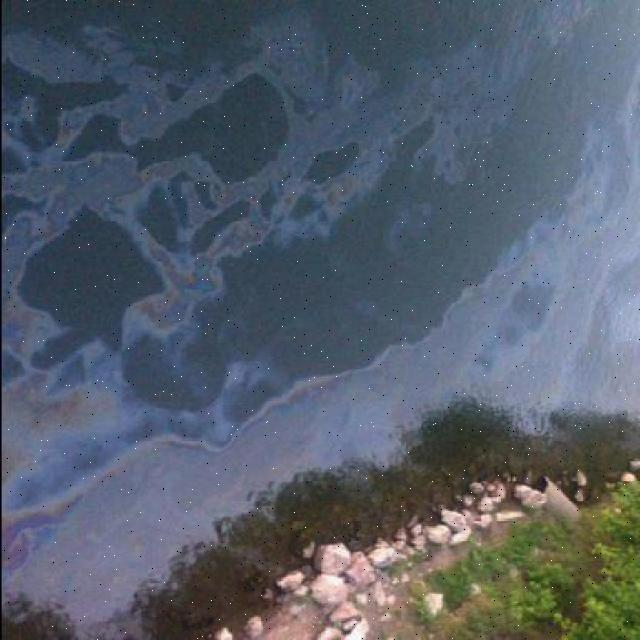oil: (1, 2, 640, 412), (0, 425, 432, 629)
